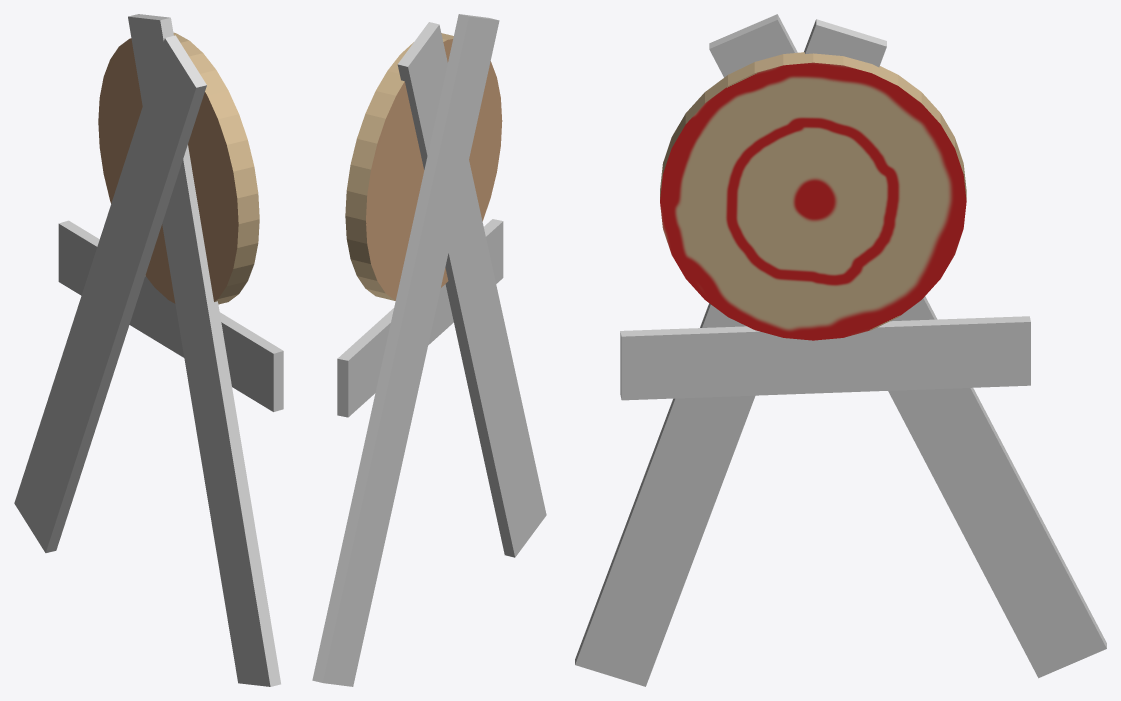
File: target.fbx
The picture shows the model from 3 angles, left to right: view 1: azimuth 30°, elevation 25°; view 2: azimuth 150°, elevation 25°; view 3: azimuth 270°, elevation 25°; orthographic projection. The views are drawn at different scales.
Parts seen in each view (by area): view 1: Cube.011, Cube.010, Circle, Cube.012; view 2: Cube.011, Cube.010, Circle, Cube.012; view 3: Circle, Cube.011, Cube.012, Cube.010.
Part boxes in pixels (x1=…): Cube.011: x1=14, y1=35, x2=206, y2=552; Cube.010: x1=128, y1=14, x2=280, y2=686; Circle: x1=98, y1=32, x2=259, y2=304; Cube.012: x1=58, y1=220, x2=283, y2=411; Cube.011: x1=312, y1=14, x2=499, y2=686; Cube.010: x1=397, y1=22, x2=546, y2=557; Circle: x1=345, y1=33, x2=502, y2=300; Cube.012: x1=337, y1=219, x2=503, y2=417; Circle: x1=660, y1=52, x2=966, y2=340; Cube.011: x1=709, y1=14, x2=1106, y2=678; Cube.012: x1=620, y1=316, x2=1030, y2=400; Cube.010: x1=575, y1=19, x2=886, y2=686.
Size of the model in its own units: 7.37 by 90.15 by 65.63.
